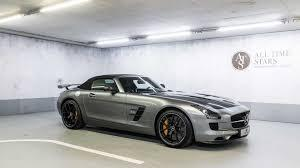mercedes: (244, 115, 251, 124)
